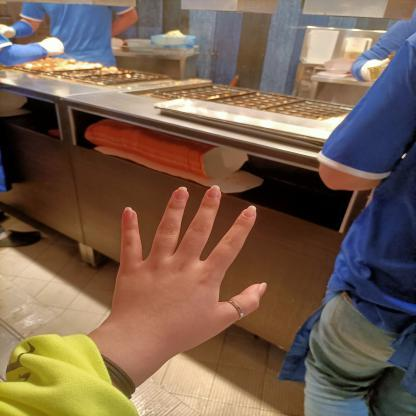bare_hand: (99, 172, 283, 370)
